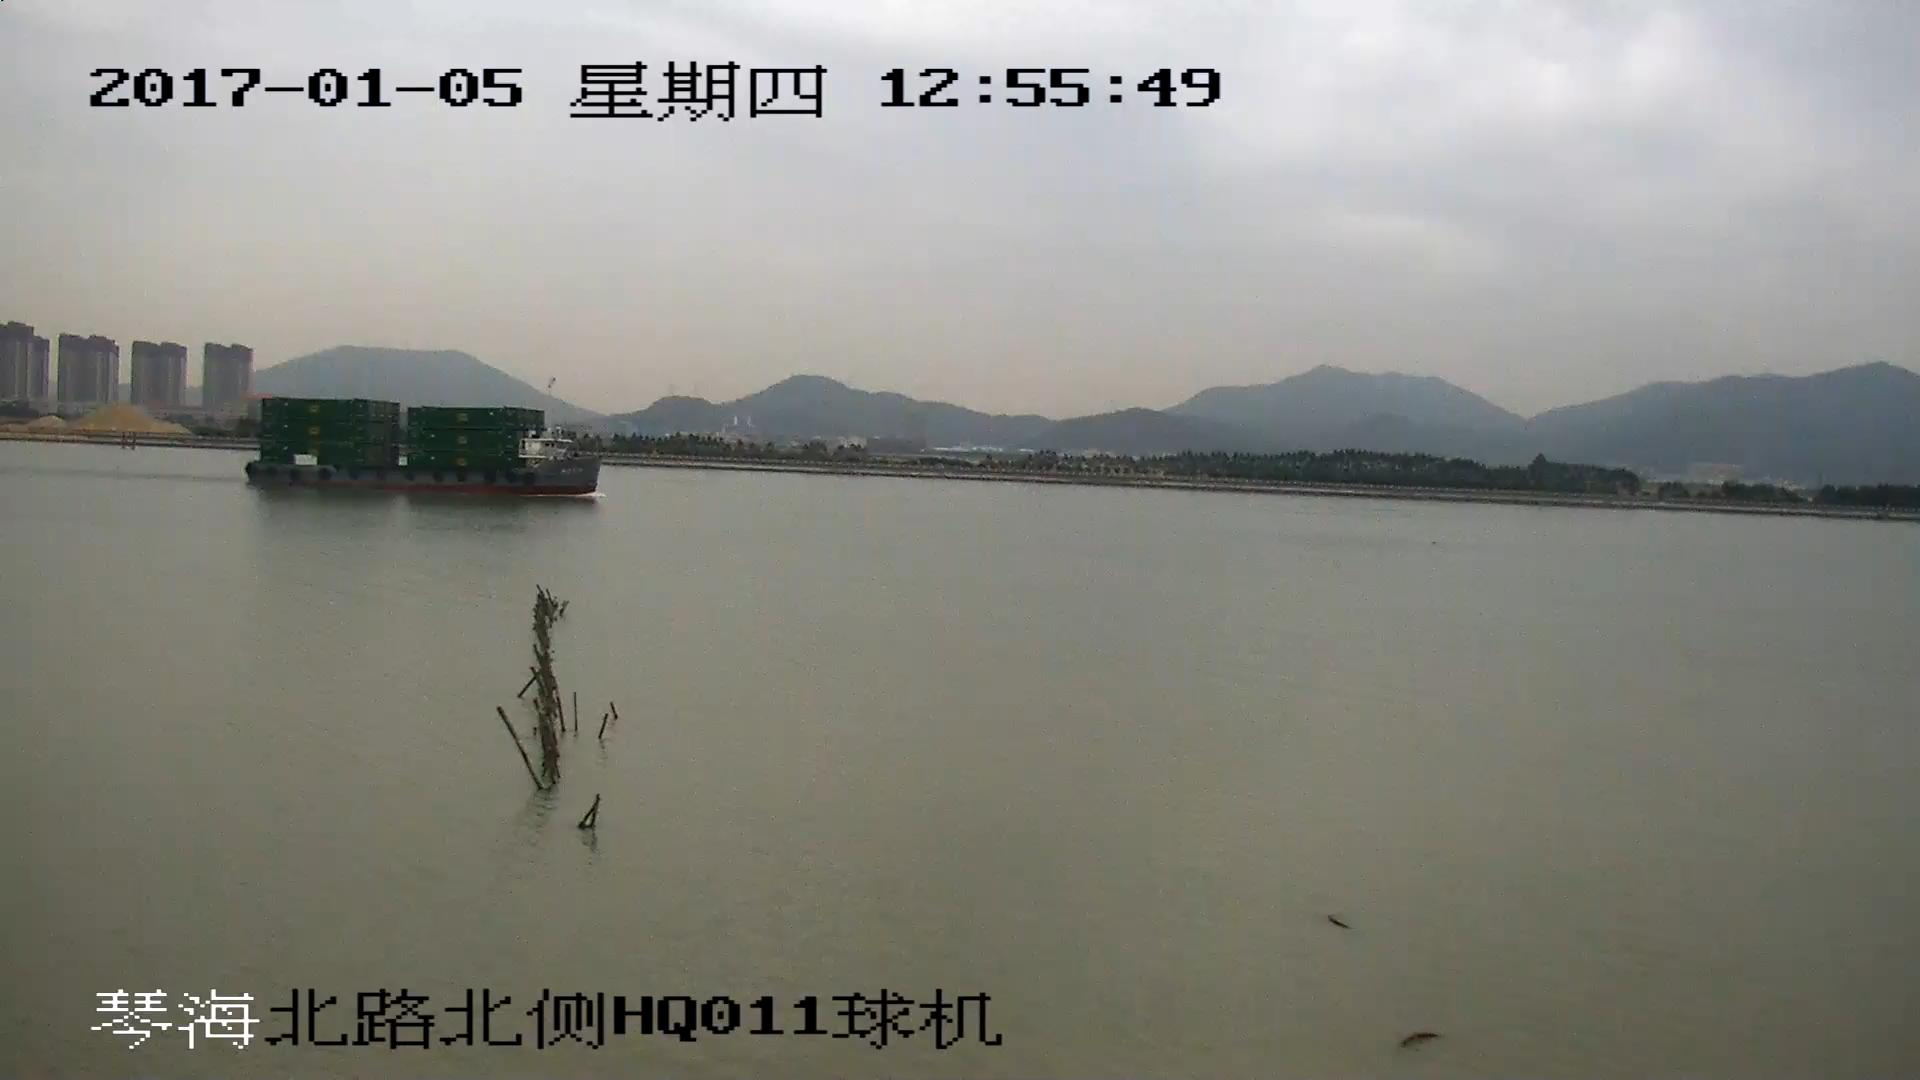container ship: (245, 395, 598, 497)
